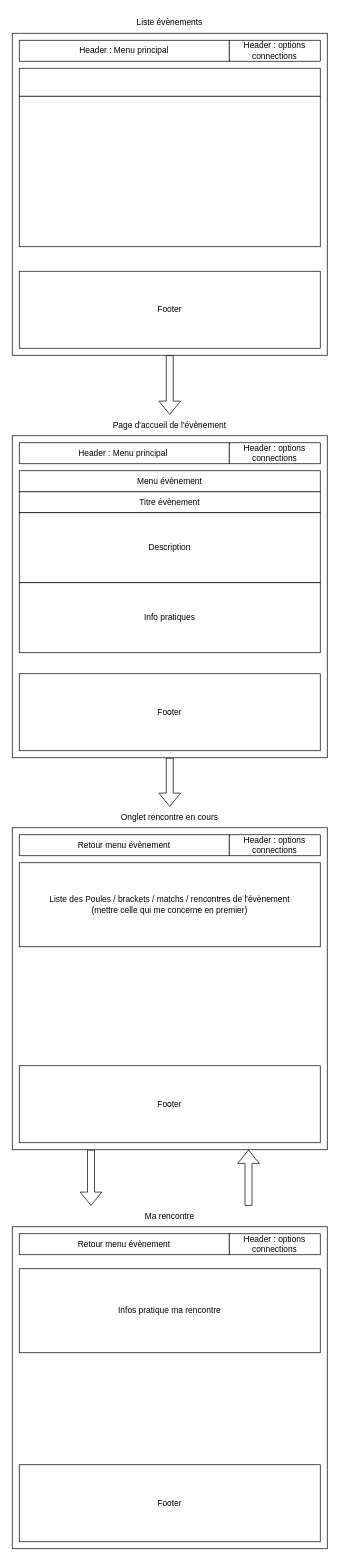
Image size: 340x1561. Some labels were removed from this diagram. The shapes that lost their labels are listed below. From the top down, each one's box as (x1, y1, x2, y2) in pixels, then its label:
(19, 68, 320, 96): Critères de recherches (afficher mes évènements par défaut)
(19, 96, 320, 247): Liste événements
